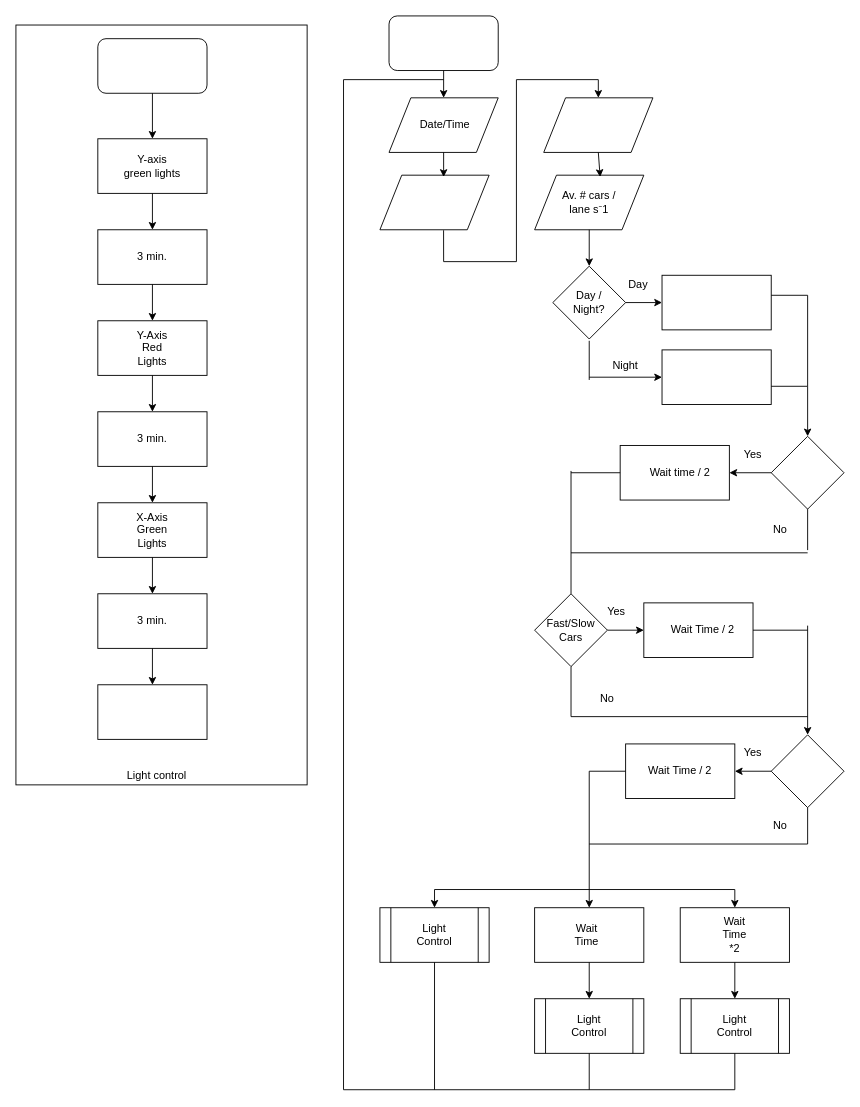
This 860x1107 diagram has some shape labels left out. The centre of each missing label's shape, as x and y in pixels:
Av. Speed of cars: point (598, 124)
Begin: point (443, 43)
Many cars per lane: point (807, 771)
Rush Hour: point (434, 202)
Rush Hour?: point (807, 472)
Start: point (152, 65)
wait time = 2mins: point (716, 302)
Wait Time = 4mins: point (716, 376)
X-Axis Red Light: point (152, 711)
